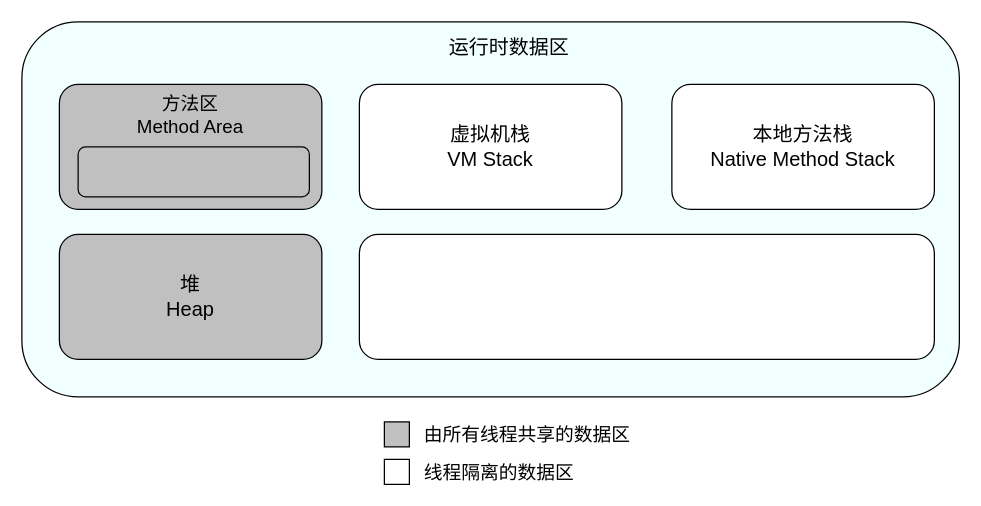
Some shapes in this 981 by 506 pixel diagram are drawn without their labels. The box of each missing label's shape, as (x1, y1, x2, y2) in pixels:
程序计数器 Program Counter Register: (358, 233, 934, 359)
运行时常量池 Runtime Constant Pool: (77, 146, 309, 197)
